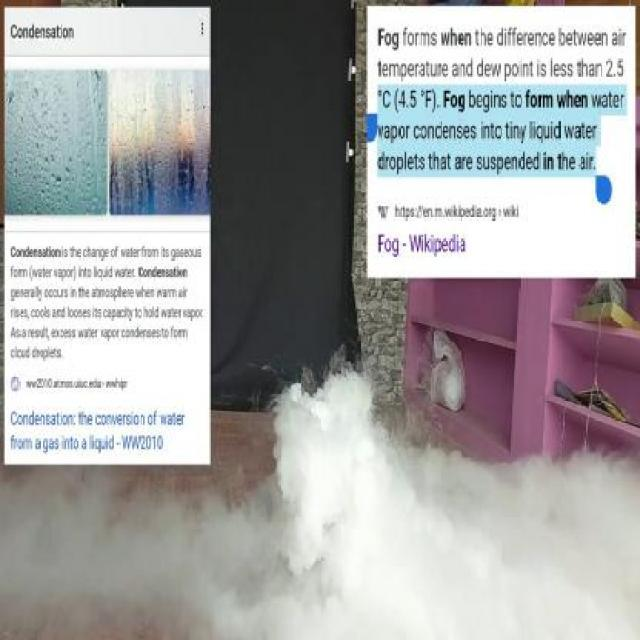smoke: (264, 351, 640, 640), (6, 480, 268, 640)
